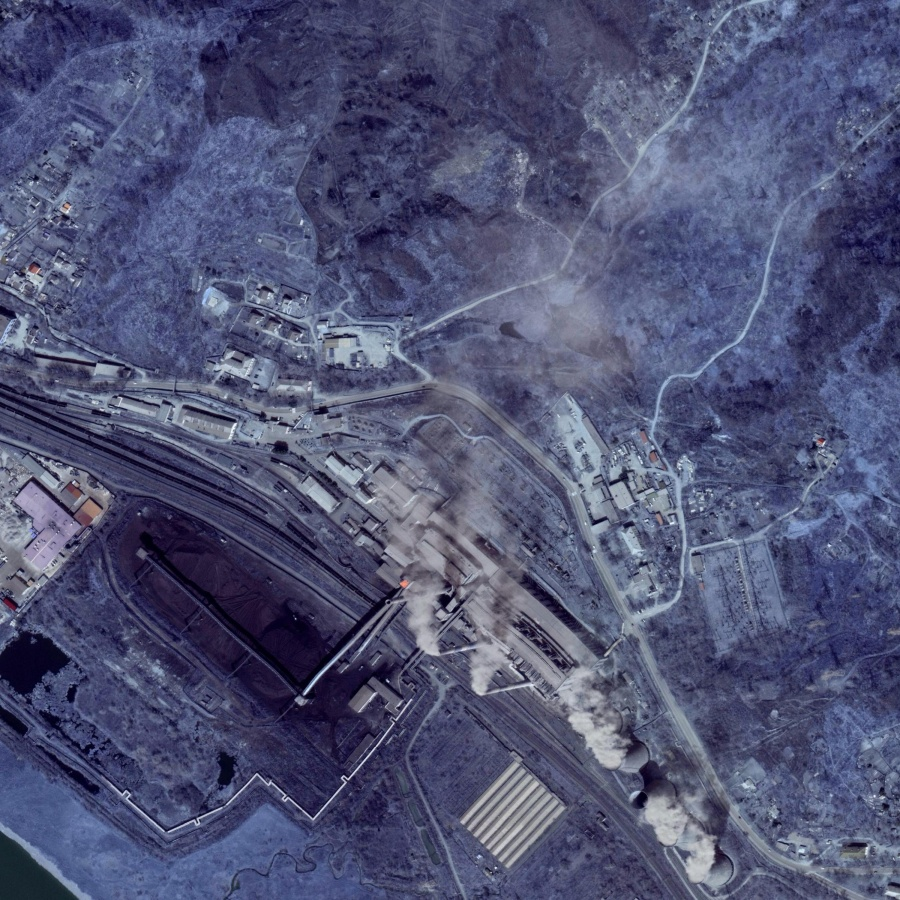PowerPlant: (112, 454, 553, 747)
